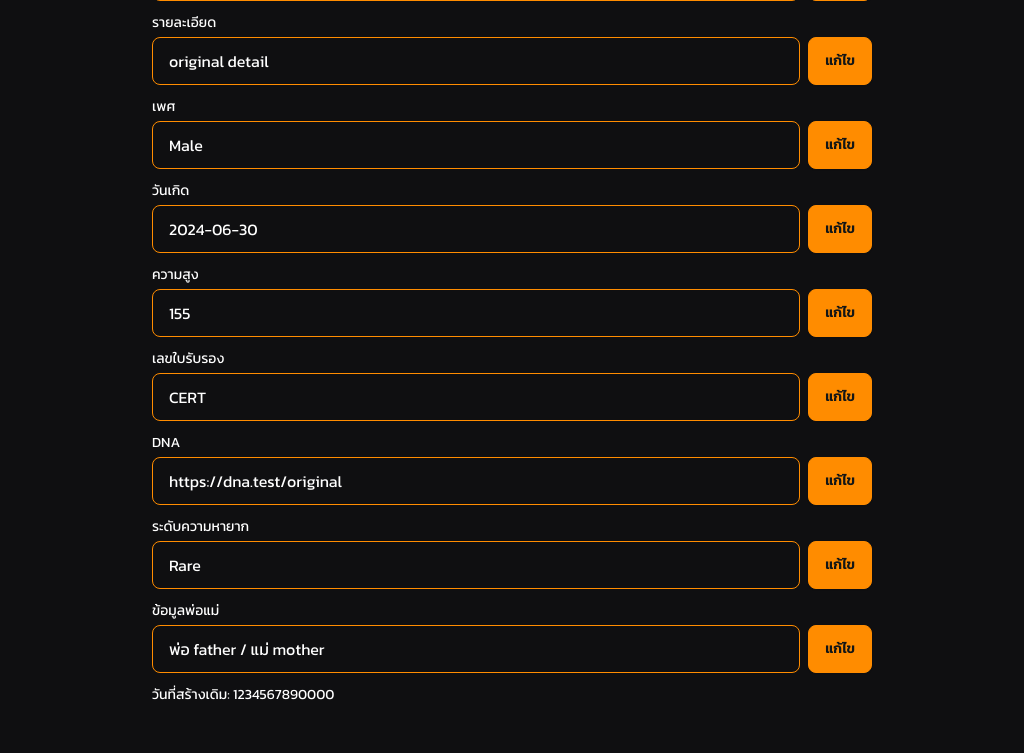
Test: unchanged parent dialog explains no change and creates no operation
The width and height of the screenshot is (1024, 753).
(page scrolled)
Click the button with aria-label "แก้ไขข้อมูลพ่อแม่". click: click(840, 649)
box: top-left (808, 625), bottom-right (872, 673)
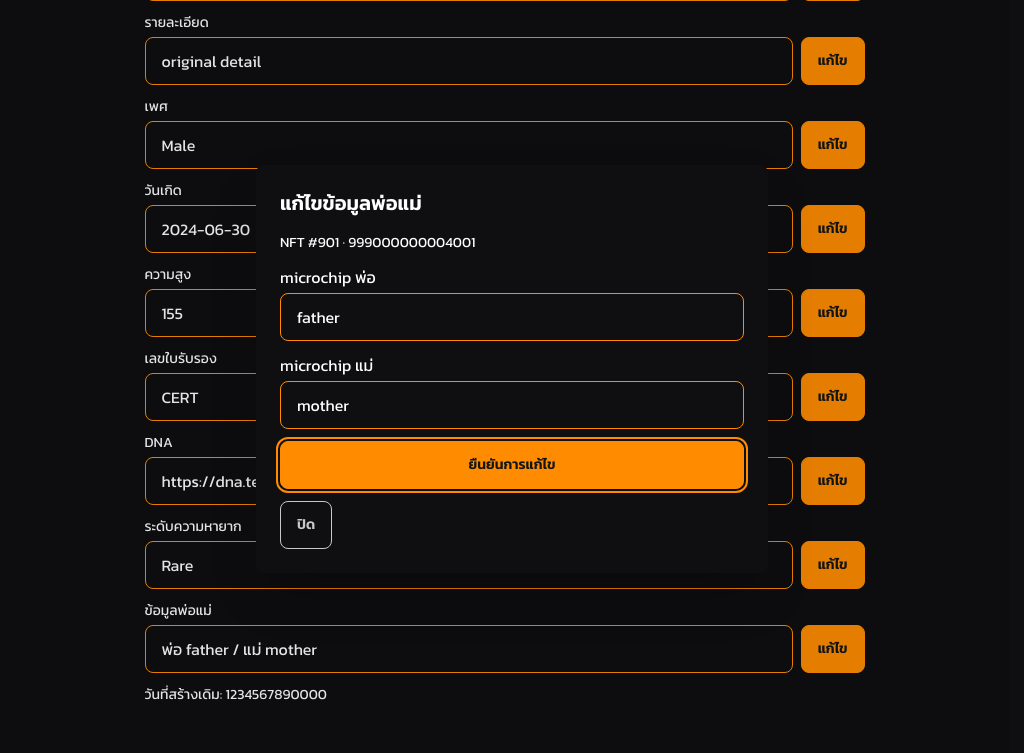
Click the button "ยืนยันการแก้ไข". click: click(512, 465)
box: top-left (280, 441), bottom-right (744, 489)
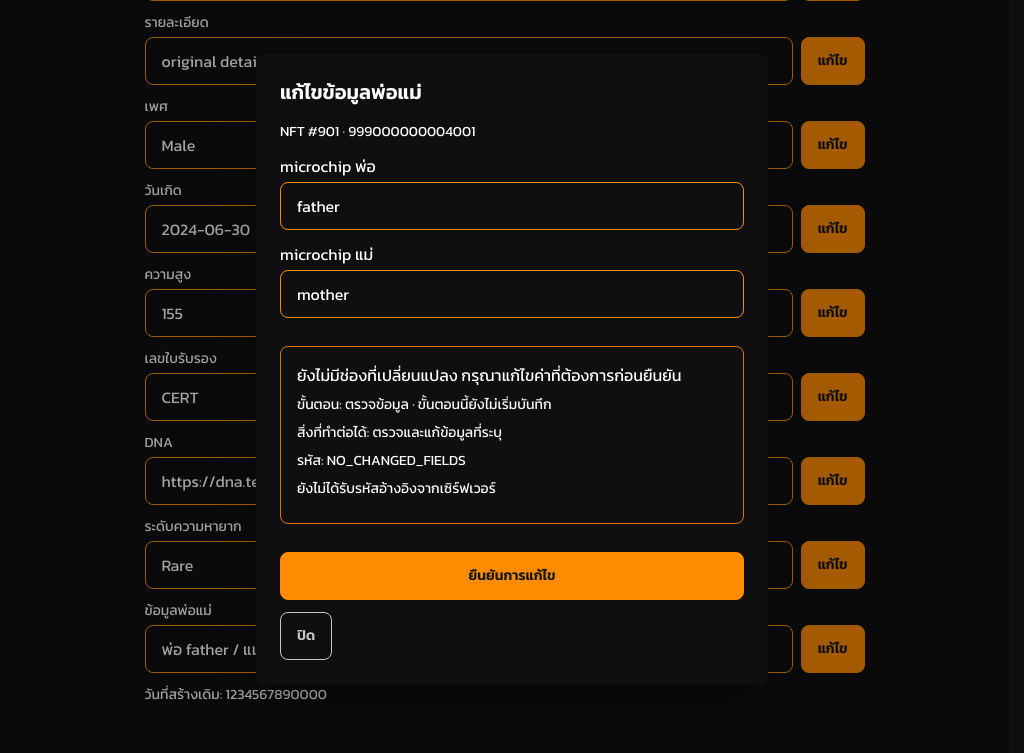
Now the text "ยังไม่มีช่องที่เปลี่ยนแปลง กรุณาแก้ไขค่าที่ต้องการก่อนยืนยัน" is shown, box top-left (297, 363), bottom-right (727, 387)
